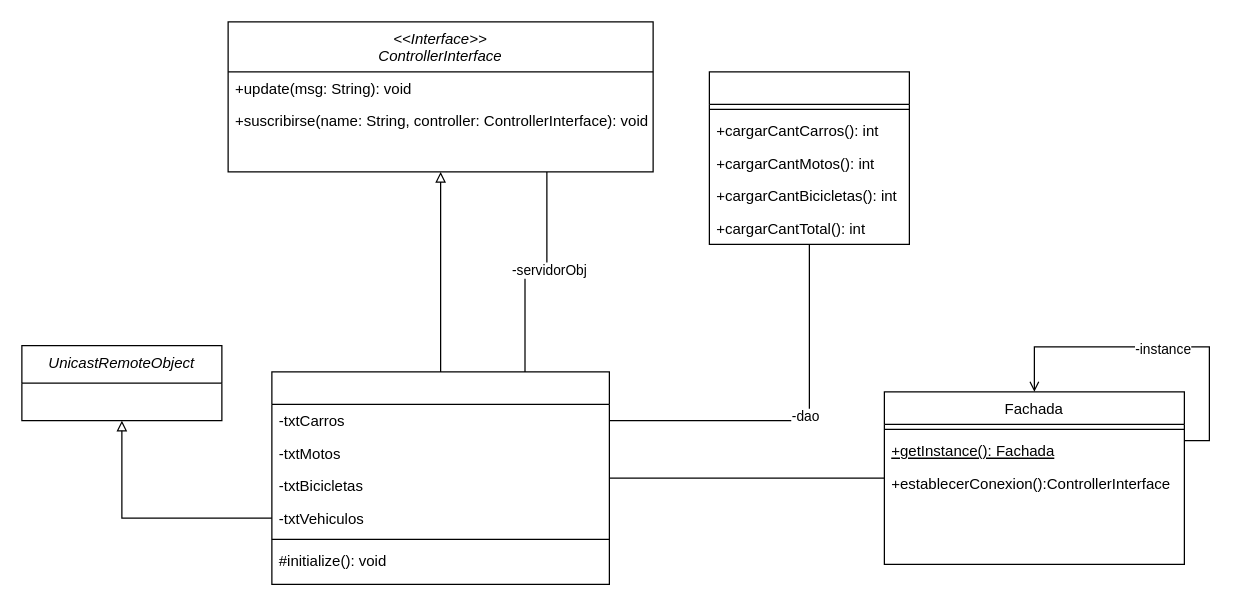
This 1241x606 diagram has some shape labels left out. The box of each missing label's shape, as (x1, y1, x2, y2) in pixels:
CentralReporteController: (271, 371, 609, 584)
ServidorDAO: (708, 71, 909, 244)
